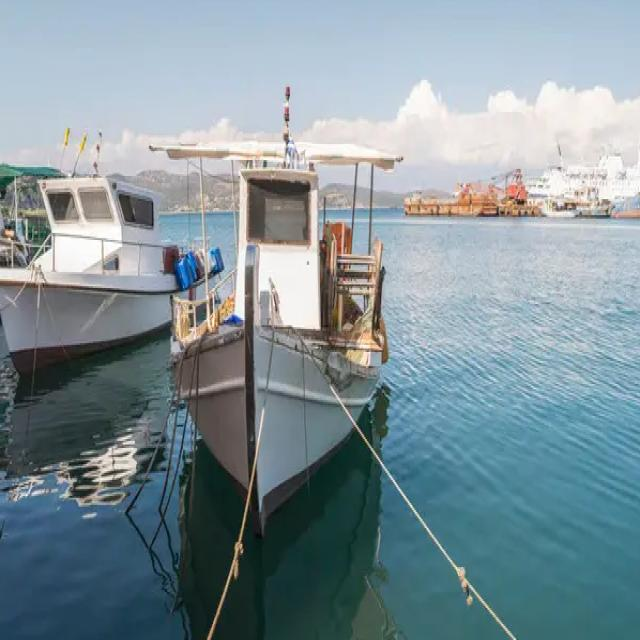fishing boat: (160, 123, 394, 520), (1, 164, 216, 365)
